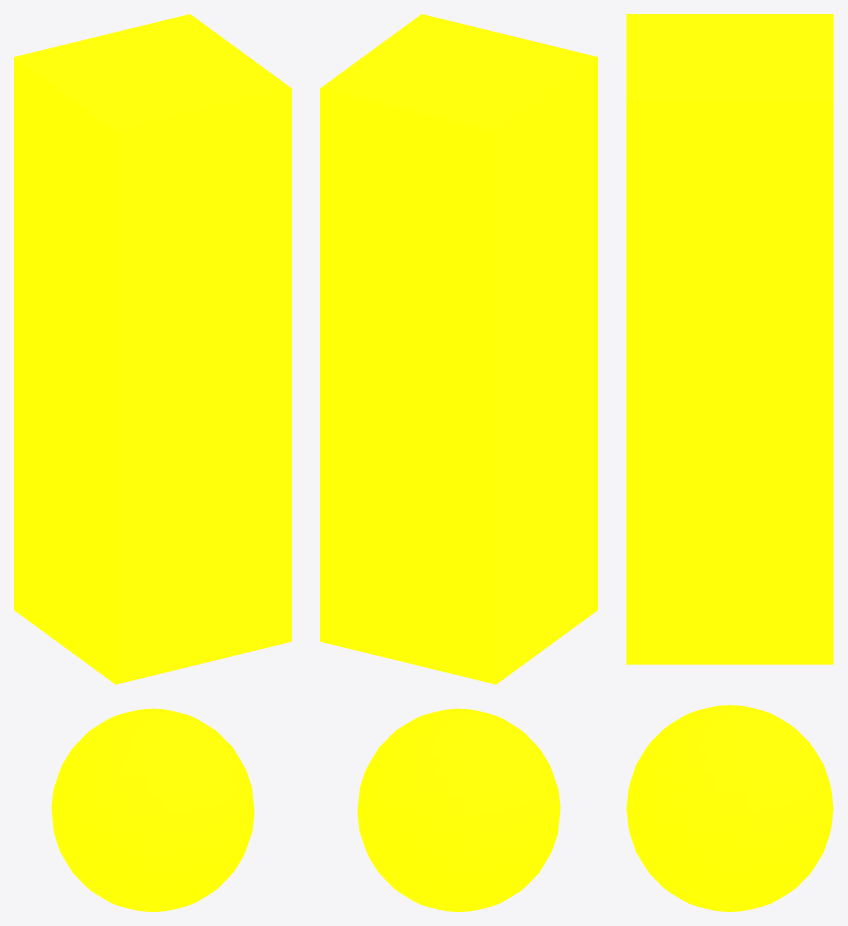
Rendered from alert3D.fbx.
The picture shows the model from 3 angles, left to right: view 1: azimuth 30°, elevation 25°; view 2: azimuth 150°, elevation 25°; view 3: azimuth 270°, elevation 25°; orthographic projection.
Visible parts, largest first — view 1: Sphere; view 2: Sphere; view 3: Sphere.
Boxes of the visible parts, <box> form: Sphere: <box>14,14,291,911</box>; Sphere: <box>320,14,597,911</box>; Sphere: <box>626,14,833,911</box>.
Size of the model in its own units: 100 by 450 by 100.
